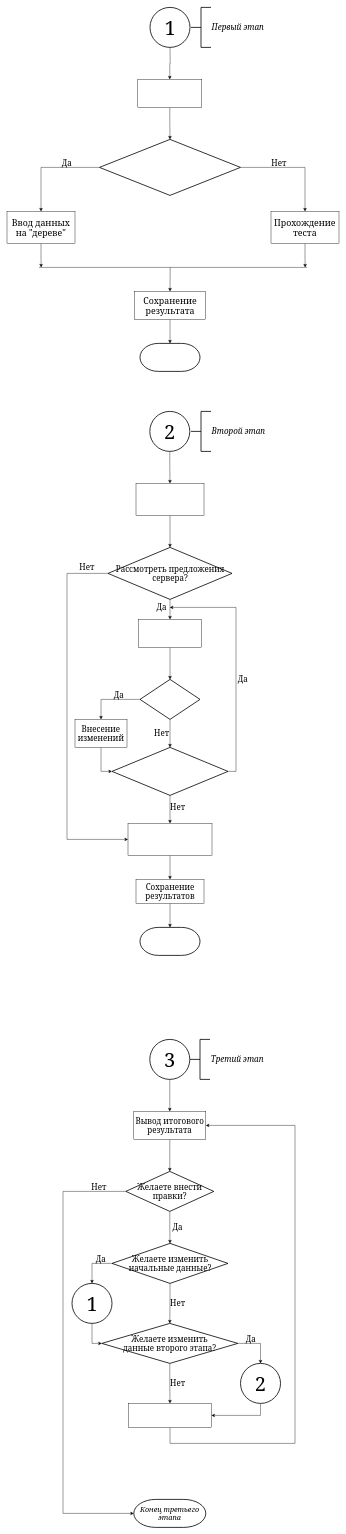
Some shapes in this 346 by 1534 pixel diagram are drawn without their labels. Here are the shapes that lost their labels. From the top down, the centre of each, then its label:
[169,93]: Вход на сайт
[170,167]: Желаете ввести начальные данные вручную?
[169,357]: Конец первого этапа
[170,499]: Переход к "дереву"
[169,633]: Получено предложение
[169,699]: Принять?
[169,771]: Продолжить работу с сервером?
[170,839]: Ручное заполнение "дерева"
[169,941]: Конец второго этапа
[169,1415]: Повторная генерация результата
